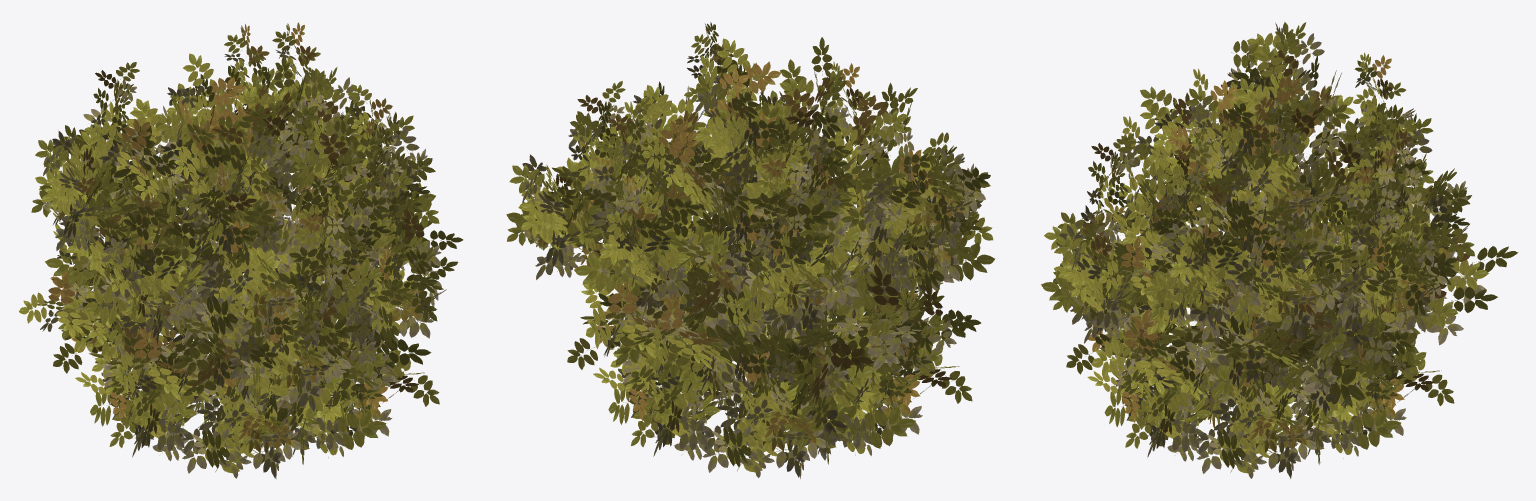
Rendered from bush.glb.
The picture shows the model from 3 angles, left to right: view 1: azimuth 30°, elevation 25°; view 2: azimuth 150°, elevation 25°; view 3: azimuth 270°, elevation 25°; orthographic projection. The views are drawn at different scales.
Visible parts, largest first — view 1: tak001_M_greenRed_0; view 2: tak001_M_greenRed_0; view 3: tak001_M_greenRed_0.
Part boxes in pixels (box(x1,y1,x2,y2)): tak001_M_greenRed_0: box(19, 22, 463, 479); tak001_M_greenRed_0: box(506, 22, 995, 478); tak001_M_greenRed_0: box(1041, 22, 1518, 478).
Bounding box in the file's own units: 2.44 × 2.14 × 2.49.
Materials: 1 (1 with a texture image).
